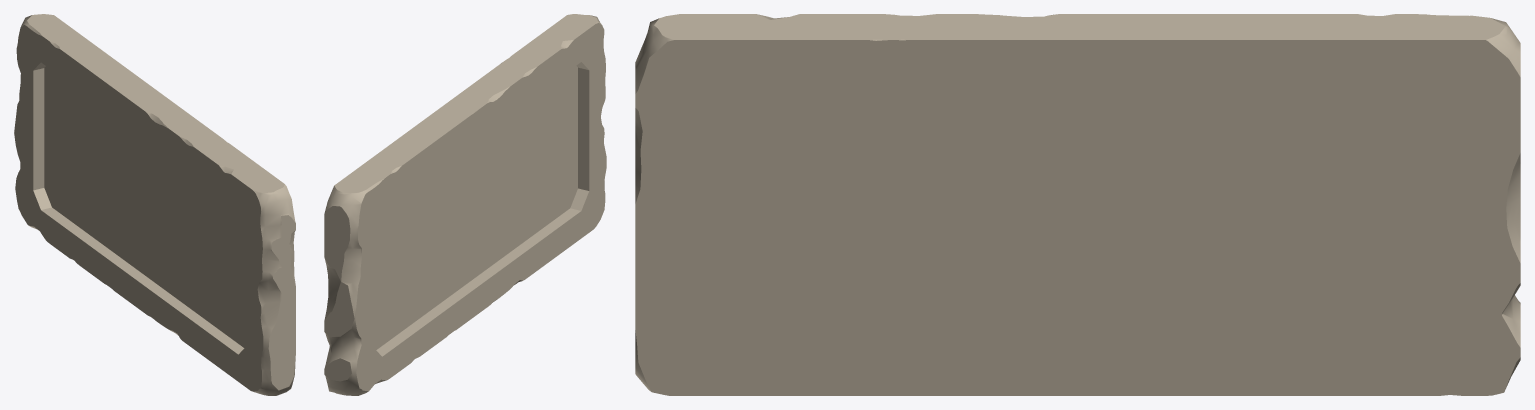
The model's file is Name_field_Cloud.fbx.
The picture shows the model from 3 angles, left to right: view 1: azimuth 30°, elevation 25°; view 2: azimuth 150°, elevation 25°; view 3: azimuth 270°, elevation 25°; orthographic projection. The views are drawn at different scales.
Visible parts, largest first — view 1: Name_Slot_1.011_dmg; view 2: Name_Slot_1.011_dmg; view 3: Name_Slot_1.011_dmg.
Boxes of the visible parts, box(x1,y1,x2,y2) form: Name_Slot_1.011_dmg: box(14, 14, 295, 395); Name_Slot_1.011_dmg: box(324, 14, 606, 395); Name_Slot_1.011_dmg: box(635, 14, 1520, 395).
Size of the model in its own units: 7.92 by 50.51 by 114.
